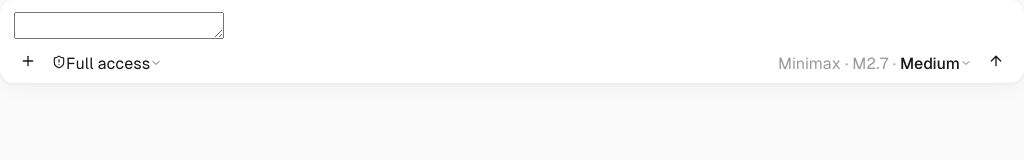
Test: Composer › does not publish a pending attachment menu after focus moves to another control
This screenshot has width=1024, height=160.
What coordinates should you click on to do the following:
click the button named "add attachment"
I would click on:
 (28, 64)
Its box is [14,52,42,75].
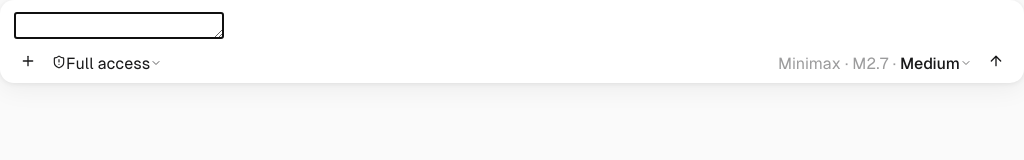
What coordinates should you click on to do the following:
click the button with aria-label "tool permission"
I would click on:
 (107, 64)
Its box is [46,52,168,75].
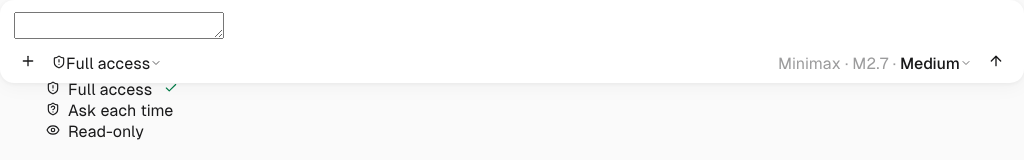
Now the text "Read-only" is shown, box [68,122,144,141]
